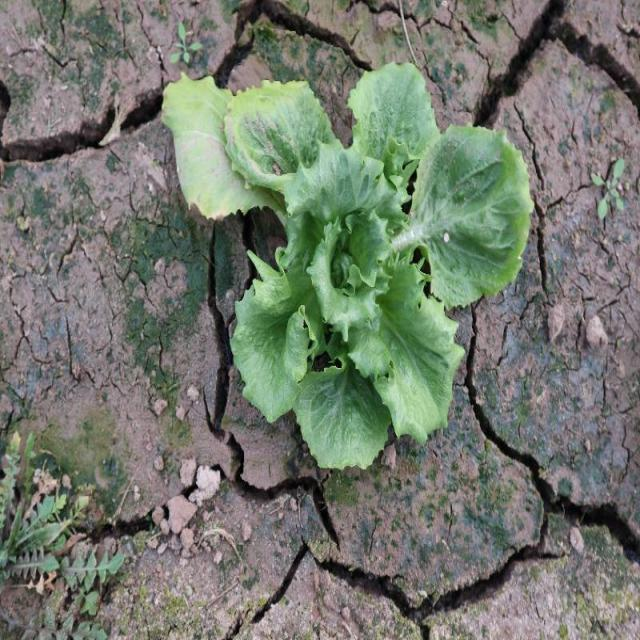crop: (222, 62, 533, 490)
